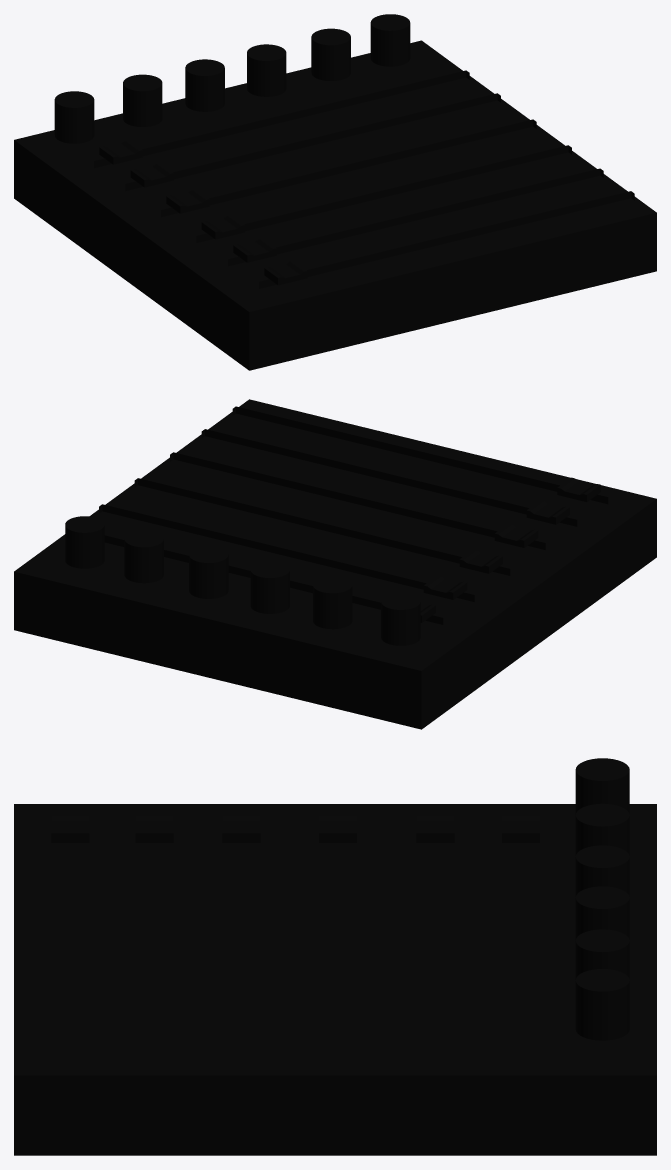
The model's file is SoundBoard.fbx.
The picture shows the model from 3 angles, top to bottom: view 1: azimuth 30°, elevation 25°; view 2: azimuth 150°, elevation 25°; view 3: azimuth 270°, elevation 25°; orthographic projection. The views are drawn at different scales.
Visible parts, largest first — view 1: Slider.005; view 2: Slider.005; view 3: Slider.005.
Boxes of the visible parts, left/top/right/bottom form: Slider.005: left=14, top=14, right=656, bottom=370; Slider.005: left=14, top=399, right=656, bottom=729; Slider.005: left=14, top=758, right=656, bottom=1155.
Bounding box in the file's own units: 150 × 36.48 × 150.
Materials: 1 (1 with a texture image).
